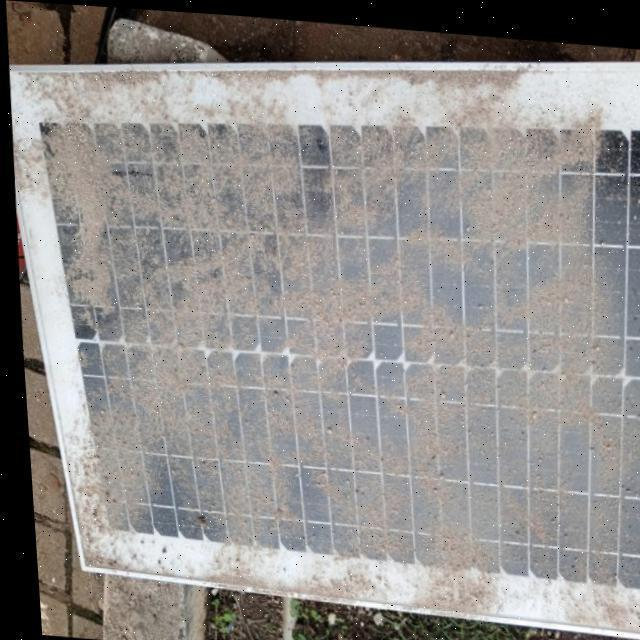Surface Contaminant: (64, 101, 597, 594)
